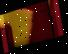scratch: (0, 0, 63, 53)
